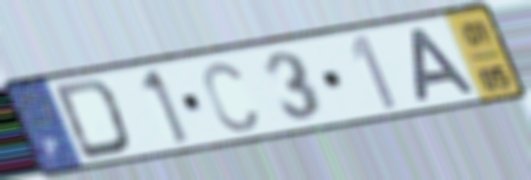1: (137, 66, 194, 147), (348, 32, 400, 113)
3: (261, 48, 323, 124)
A: (405, 25, 481, 104)
C: (199, 59, 261, 136)
D: (50, 75, 134, 163)
